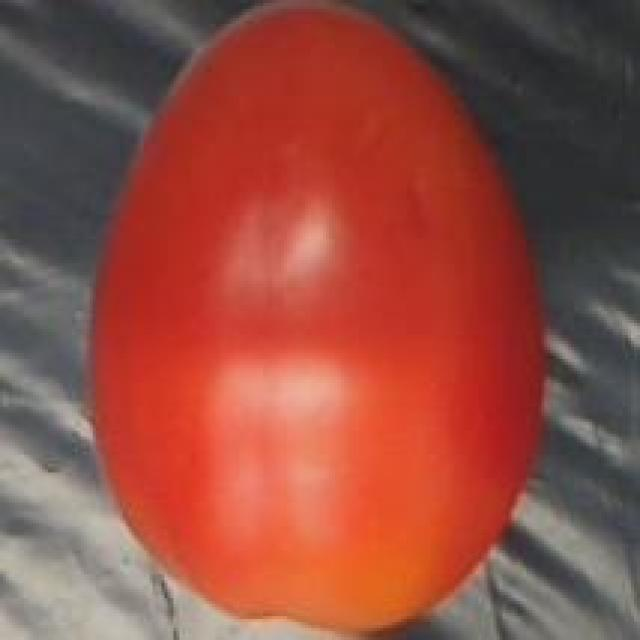ripe tomato: (66, 0, 559, 640)
